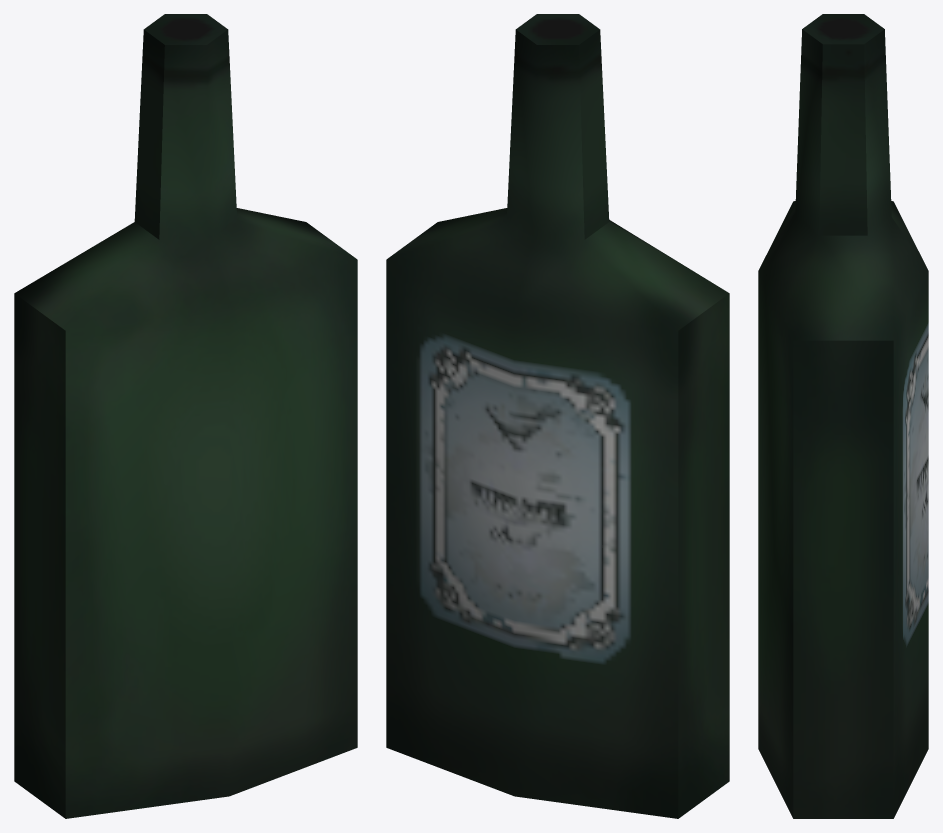
Rendered from SM_Trash_bottle_1.FBX.
3 renders of one model, left to right at view 1: azimuth 30°, elevation 25°; view 2: azimuth 150°, elevation 25°; view 3: azimuth 270°, elevation 25°, orthographic. The views are drawn at different scales.
Parts seen in each view (by area): view 1: Trash_bottle_1; view 2: Trash_bottle_1; view 3: Trash_bottle_1.
Boxes of the visible parts, bbox=[...] form: Trash_bottle_1: bbox=[14, 14, 357, 818]; Trash_bottle_1: bbox=[386, 14, 729, 818]; Trash_bottle_1: bbox=[758, 14, 928, 818].
Bounding box in the file's own units: 7.19 × 3.71 × 17.31.
